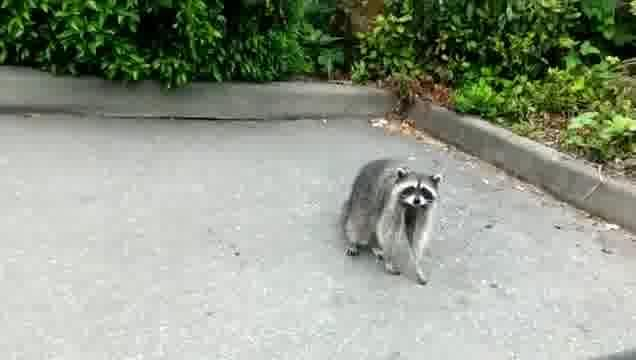raccoon: (340, 156, 444, 288)
